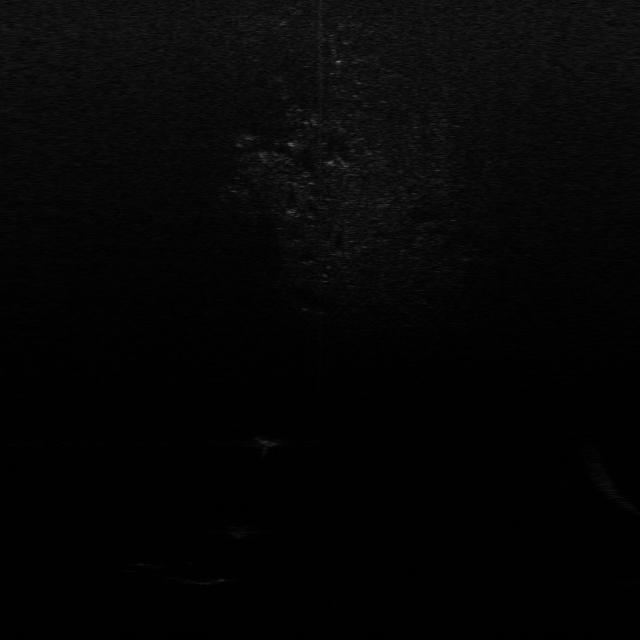cube: (223, 522, 258, 541)
square cage: (252, 432, 280, 452)
tyre: (132, 559, 236, 586)
